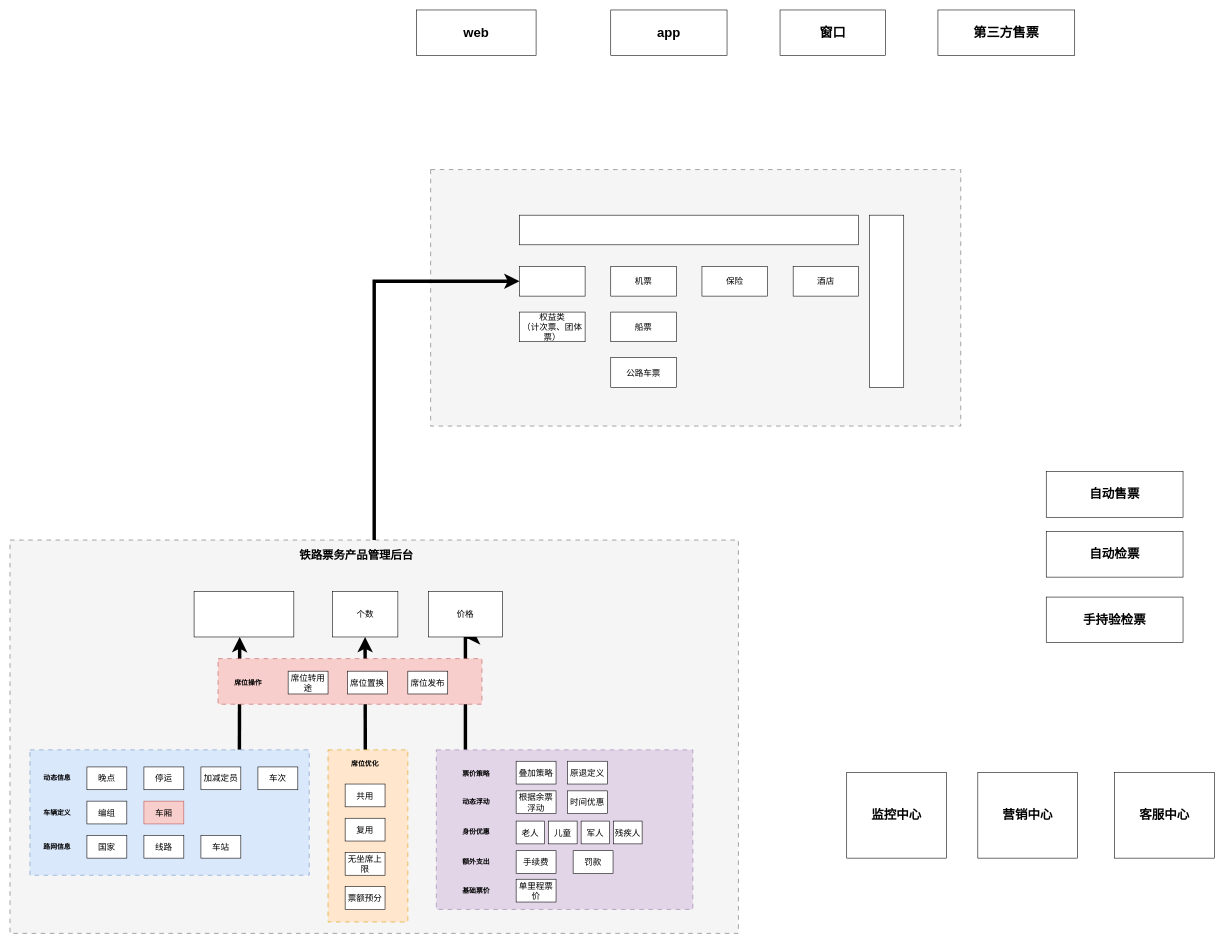
Some shapes in this 1224 by 943 pixel diagram are drawn without their labels. Each missing label, with the centre of its shape:
"席位种类 （日期、车次、始发、终到、席别）" goes at (x=244, y=614).
"支付" goes at (x=886, y=301).
"订单" goes at (x=689, y=230).
"铁路车票" goes at (x=552, y=281).
